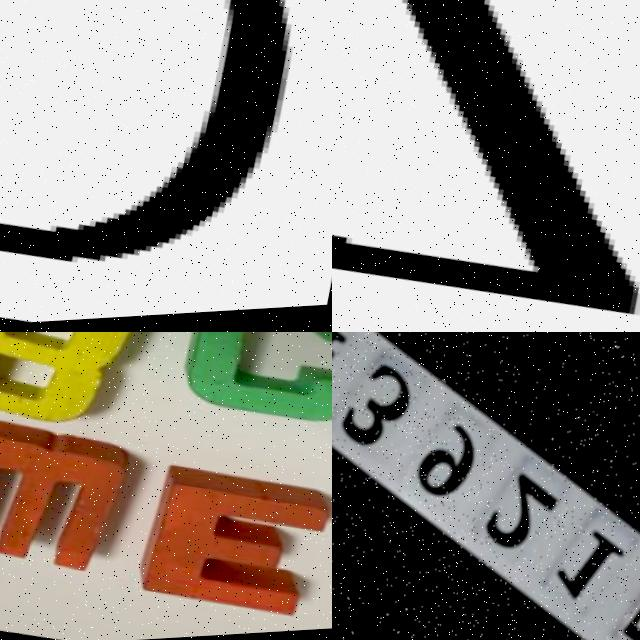1: (527, 510, 636, 635)
2: (452, 450, 575, 590)
3: (332, 337, 436, 484)
5: (593, 553, 640, 640)
9: (384, 398, 503, 534)
C: (180, 332, 332, 442)
E: (127, 464, 332, 632)
Q: (0, 0, 332, 329)
R: (0, 332, 143, 445)
W: (0, 414, 134, 586)
Z: (332, 0, 640, 332)
